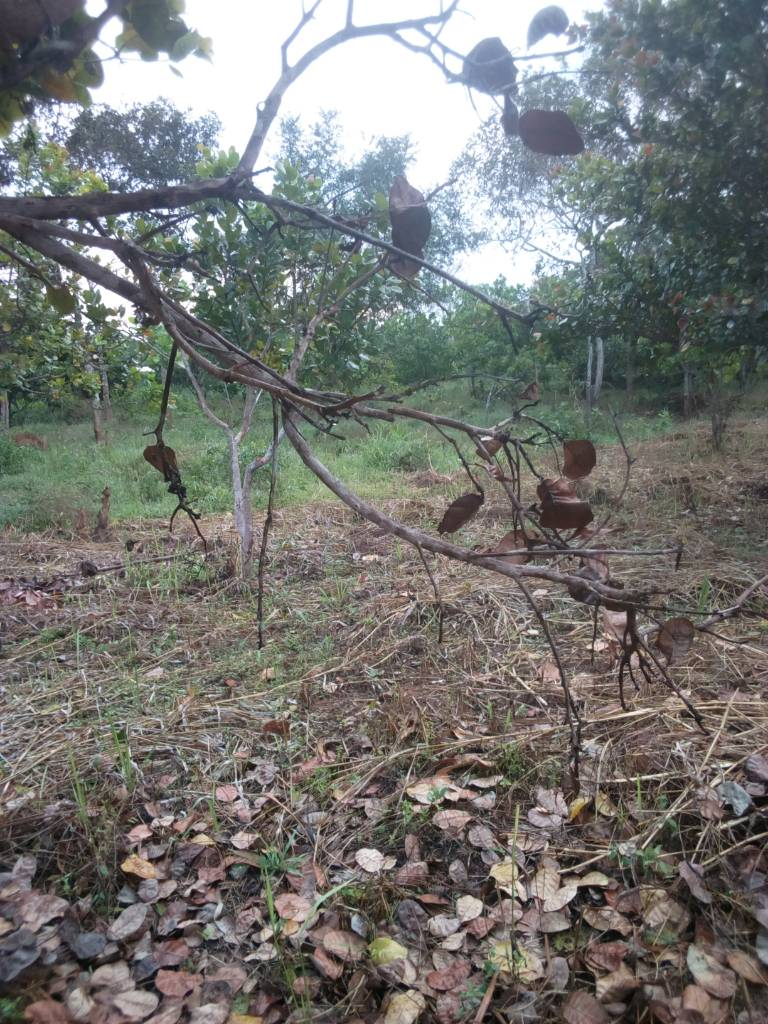Dessèchement des bourgeons: (146, 438, 207, 538)
